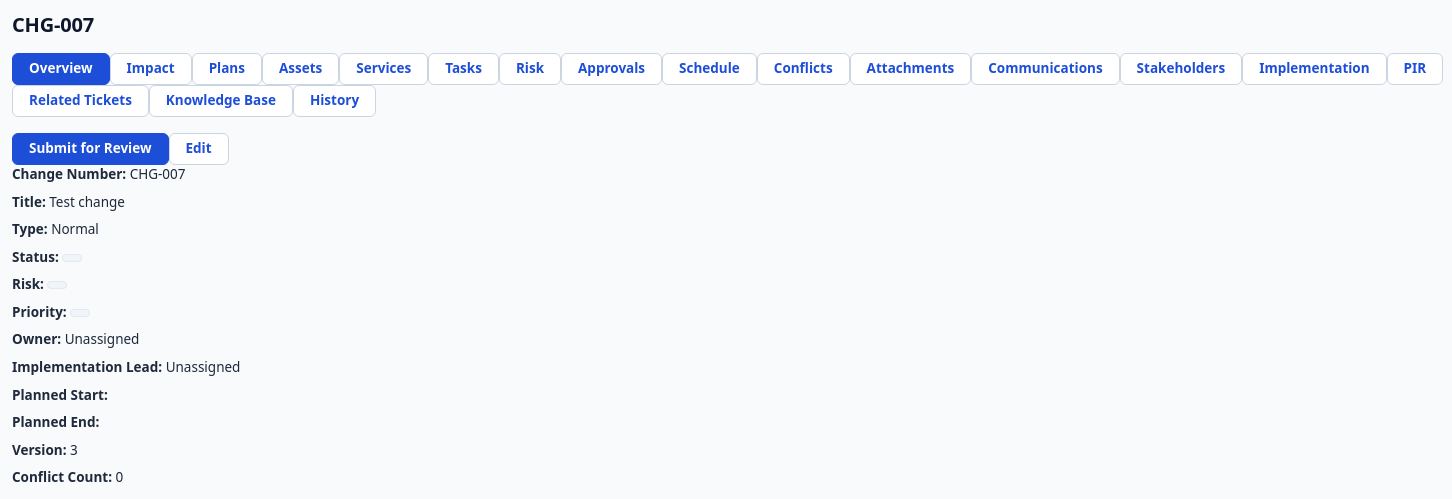
Test: ChangeDetail workflow actions › renders communication records using the API serializer fields
Check: the heading "CHG-007" is shown, box [12,12,94,37]
Click the button "Communications": (1045, 69) [971,53,1120,85]
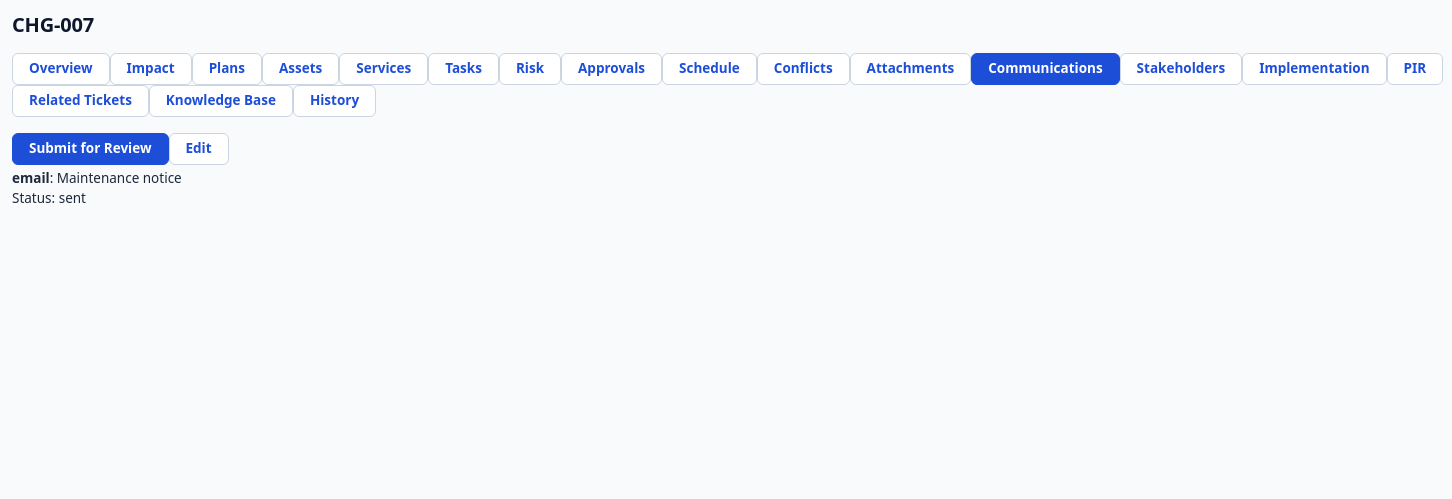
Check: the text "email" is shown, box [12,169,50,187]
Check: the text "email: Maintenance notice Status: sent" is shown, box [12,169,182,207]
Check: the text "Status: sent" is shown, box [12,189,86,207]
